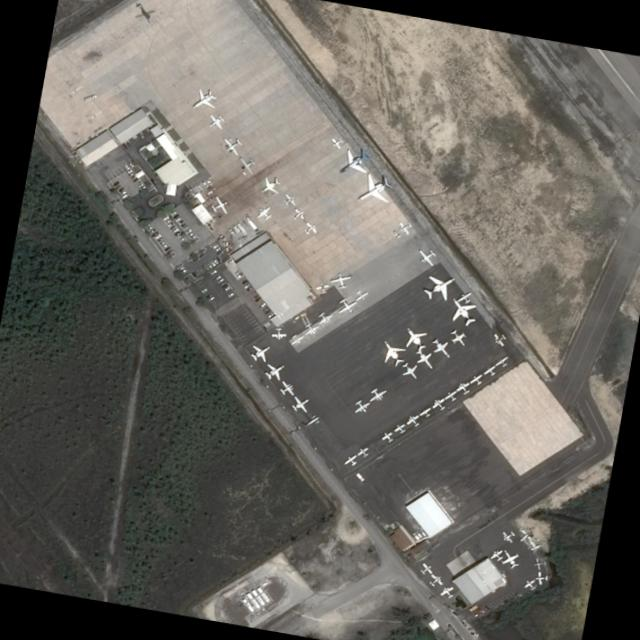plane: (348, 168, 400, 216), (331, 143, 376, 185), (418, 267, 463, 307), (442, 292, 483, 331), (374, 336, 411, 371), (398, 322, 433, 355), (185, 86, 221, 117), (255, 173, 285, 200), (247, 339, 275, 366), (261, 359, 290, 385), (428, 336, 456, 362), (497, 546, 524, 572), (412, 347, 439, 373), (287, 391, 314, 417), (220, 134, 246, 158), (398, 359, 423, 383), (235, 153, 260, 177), (208, 194, 233, 218), (415, 246, 440, 270), (335, 295, 360, 318), (365, 385, 391, 406), (447, 327, 470, 350), (205, 111, 228, 134), (350, 397, 373, 417), (329, 272, 352, 290), (277, 379, 297, 399), (254, 204, 275, 223), (301, 413, 323, 430), (426, 572, 446, 590), (395, 219, 415, 237), (301, 321, 322, 338), (499, 528, 518, 546), (404, 412, 423, 430), (454, 380, 473, 398), (280, 192, 299, 210), (301, 220, 320, 238), (438, 584, 457, 601), (490, 331, 509, 348), (315, 310, 334, 327), (455, 290, 475, 306), (287, 331, 307, 347), (521, 577, 539, 594), (430, 396, 448, 413), (488, 547, 506, 564), (289, 207, 307, 224), (342, 453, 360, 469), (417, 561, 435, 577), (493, 354, 511, 370), (328, 135, 346, 151), (352, 288, 370, 304), (443, 389, 460, 405), (467, 373, 485, 388), (481, 364, 499, 379), (355, 445, 371, 460), (380, 430, 396, 445), (392, 422, 408, 436), (314, 282, 331, 295), (418, 407, 434, 420), (532, 557, 547, 570), (271, 328, 287, 340), (535, 572, 548, 586)
small-vehicle: (412, 532, 421, 541), (415, 530, 423, 539), (243, 283, 251, 290), (202, 182, 209, 189), (254, 297, 262, 303), (214, 275, 222, 281), (217, 278, 225, 284), (221, 283, 229, 289), (227, 292, 235, 298), (208, 296, 216, 302), (201, 287, 209, 293), (151, 231, 159, 237), (153, 234, 161, 240), (209, 270, 218, 275), (262, 306, 269, 312), (228, 259, 235, 265), (236, 273, 243, 279), (220, 280, 227, 286), (224, 286, 231, 292), (259, 302, 266, 308), (175, 217, 182, 223), (113, 181, 120, 187), (118, 187, 125, 193), (206, 179, 212, 186), (164, 219, 171, 225), (167, 222, 174, 228), (172, 228, 179, 234), (175, 231, 182, 237), (212, 244, 219, 250), (214, 247, 221, 253), (234, 271, 242, 276), (170, 211, 178, 216), (162, 216, 170, 221), (212, 259, 218, 265), (210, 261, 216, 267), (137, 183, 143, 189), (197, 184, 203, 190), (164, 246, 171, 251), (267, 313, 274, 318), (166, 250, 173, 255), (161, 244, 168, 249), (170, 225, 177, 230), (157, 237, 164, 242), (242, 280, 248, 285), (127, 170, 133, 175), (133, 178, 139, 183), (208, 263, 213, 269), (247, 286, 253, 291), (199, 253, 205, 258), (120, 191, 126, 196), (174, 214, 180, 219), (159, 241, 165, 246), (150, 228, 156, 233), (131, 175, 136, 180), (181, 223, 186, 228), (116, 185, 122, 189), (178, 220, 184, 224)
